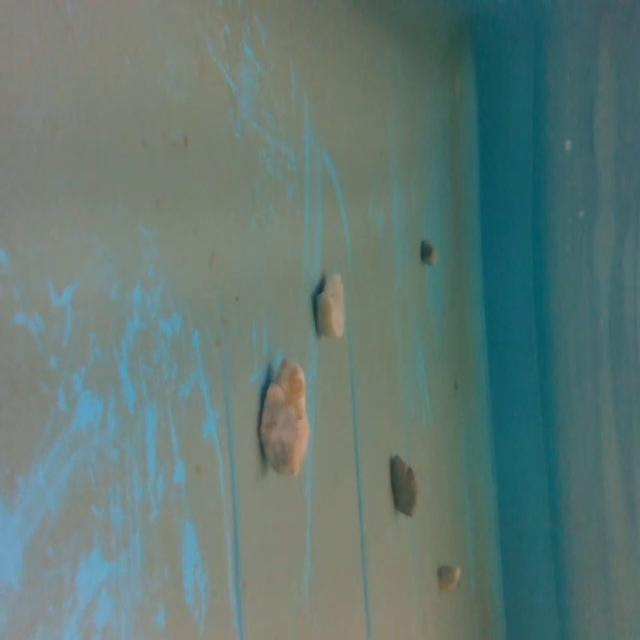rock: (257, 353, 316, 482), (386, 449, 422, 518), (313, 270, 347, 340), (435, 558, 464, 596), (418, 234, 437, 274)
